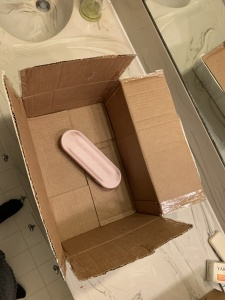innerbox: (38, 96, 147, 227)
outerbox: (8, 59, 201, 274)
product: (57, 123, 122, 191)
